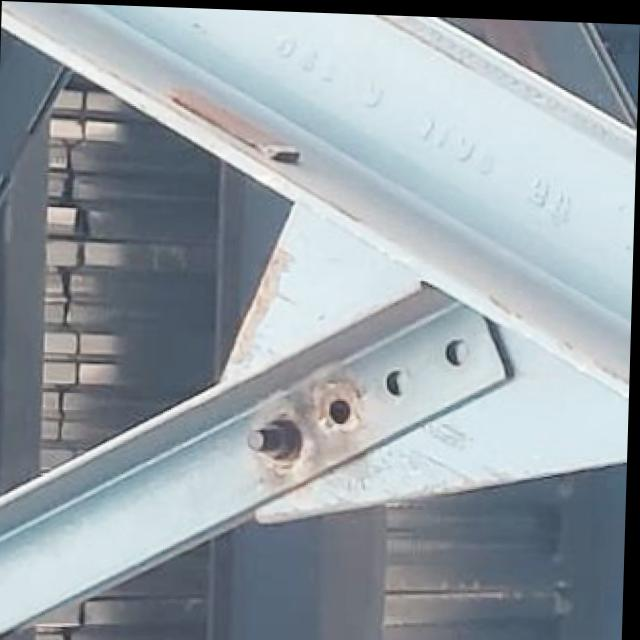Missing bolt: (374, 354, 424, 409), (315, 381, 364, 436), (442, 322, 491, 377)
Rusty bolt: (249, 420, 304, 460)
